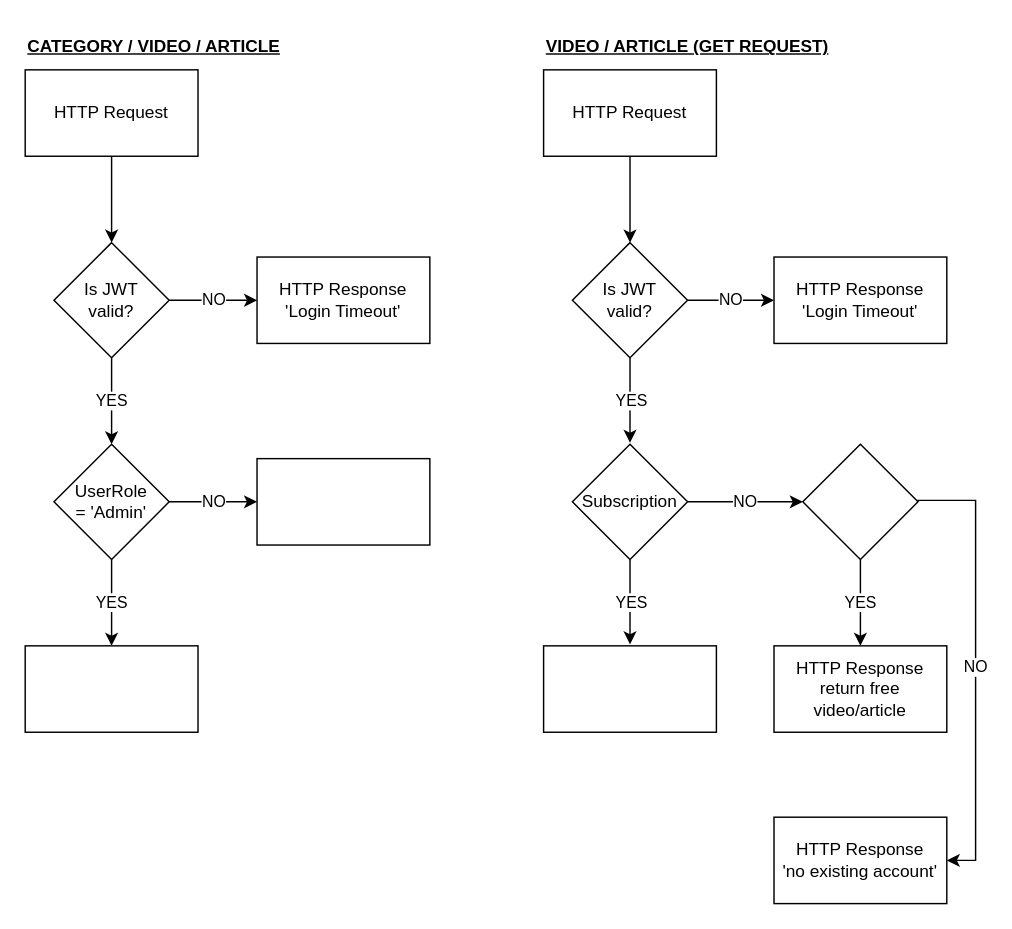
Image size: 1012x929. Some labels were removed from this diagram. Each missing label, with the centre of its shape:
HTTP Response 'No access rights': (343,501)
HTTP Response return all video/article: (629,688)
Perform end point action HTTP Response: (111,688)
Register: (859,501)
